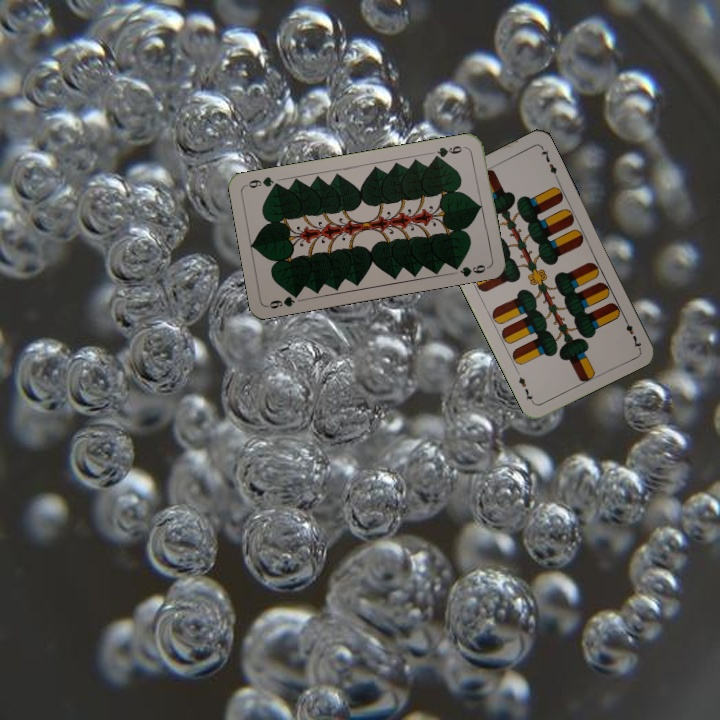E7: (619, 313, 644, 351)
G9: (264, 288, 303, 311), (429, 142, 469, 162)
